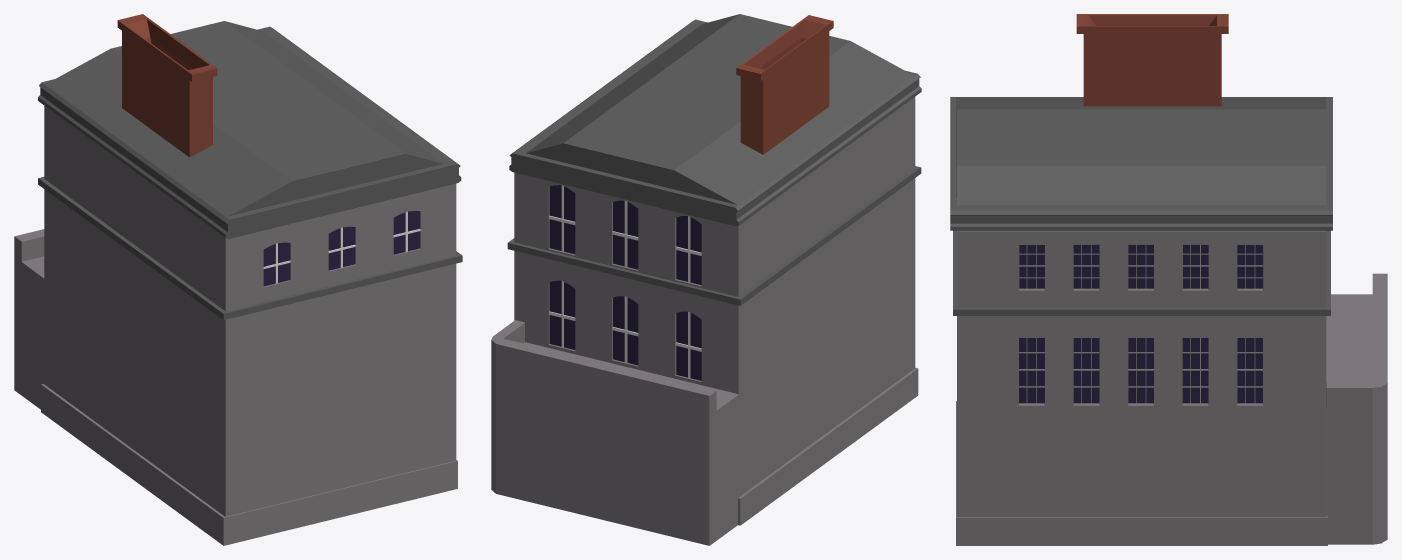
The model's file is mod_building_var1.glb.
3 renders of one model, left to right at view 1: azimuth 30°, elevation 25°; view 2: azimuth 150°, elevation 25°; view 3: azimuth 270°, elevation 25°, orthographic. The views are drawn at different scales.
Parts seen in each view (by area): view 1: Cube, Cube.001, Cube.002, Plane.004; view 2: Cube, Cube.001, Plane.002, Plane.003, Cube.002; view 3: Cube, Cube.001, Plane, Plane.001, Cube.002.
Boxes of the visible parts, box(x1,y1,x2,y2) form: Cube: box(14, 21, 461, 545); Cube.001: box(117, 14, 217, 157); Cube.002: box(38, 177, 462, 320); Plane.004: box(263, 211, 420, 286); Cube: box(491, 14, 921, 545); Cube.001: box(736, 15, 833, 154); Plane.002: box(549, 280, 701, 380); Plane.003: box(549, 185, 701, 284); Cube.002: box(507, 166, 921, 305); Cube: box(950, 97, 1387, 545); Cube.001: box(1076, 14, 1228, 106); Plane: box(1019, 338, 1262, 403); Plane.001: box(1019, 245, 1262, 288); Cube.002: box(953, 230, 1330, 315).
Bounding box in the file's own units: 20.62 × 34.72 × 32.05.
